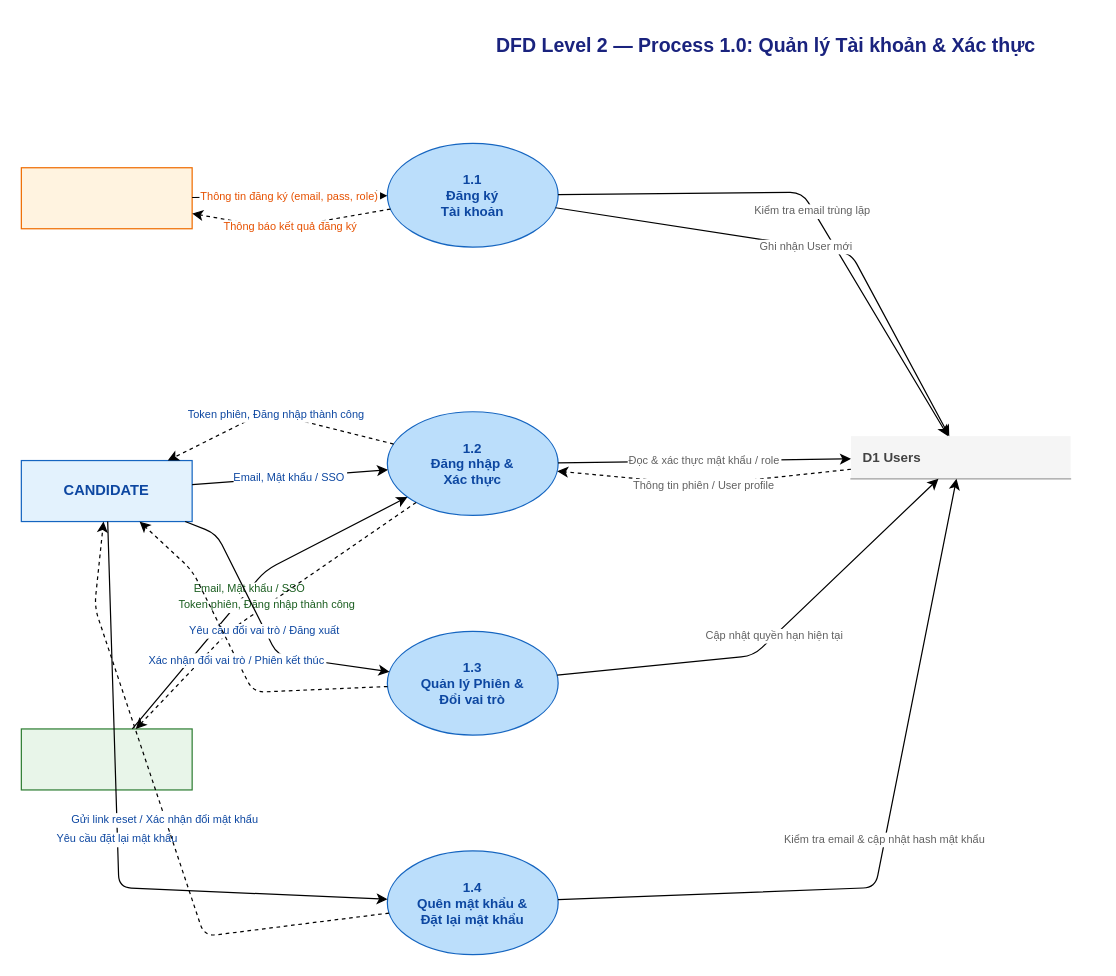
Image size: 1116x976. Some labels were removed from this diagram. The centre of each missing label's shape, as x and y in pixels:
"EMPLOYER" belongs at point (106, 759).
"GUEST" belongs at point (106, 198).
